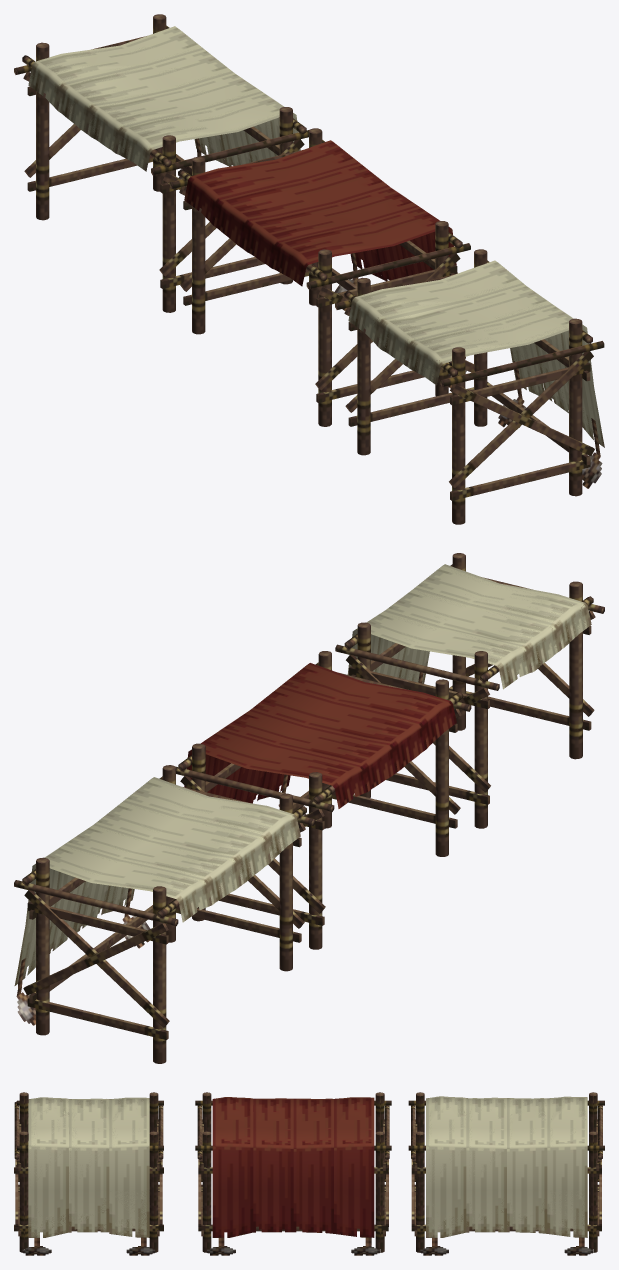
Rendered from ObjMD_Stall_AB.FBX.
3 renders of one model, top to bottom at view 1: azimuth 30°, elevation 25°; view 2: azimuth 150°, elevation 25°; view 3: azimuth 270°, elevation 25°, orthographic. The views are drawn at different scales.
Visible parts, largest first — view 1: ObjMD_Stall_AC, ObjMD_Stall_AB, ObjMD_Stall_AA; view 2: ObjMD_Stall_AA, ObjMD_Stall_AB, ObjMD_Stall_AC; view 3: ObjMD_Stall_AB, ObjMD_Stall_AA, ObjMD_Stall_AC.
Part boxes in pixels (x1,y1,x2,y2): ObjMD_Stall_AC: [335, 249, 604, 524]; ObjMD_Stall_AB: [170, 128, 470, 426]; ObjMD_Stall_AA: [14, 14, 309, 312]; ObjMD_Stall_AA: [14, 765, 315, 1063]; ObjMD_Stall_AB: [175, 651, 471, 949]; ObjMD_Stall_AC: [335, 553, 604, 828]; ObjMD_Stall_AB: [195, 1092, 391, 1255]; ObjMD_Stall_AA: [408, 1092, 604, 1255]; ObjMD_Stall_AC: [14, 1092, 163, 1255].
Size of the model in its own units: 293 by 281 by 1280.
